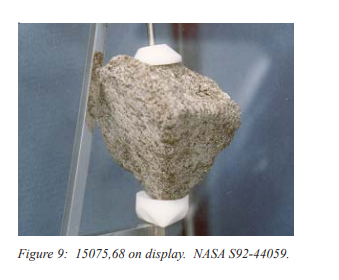Basalt: (95, 52, 238, 194)
